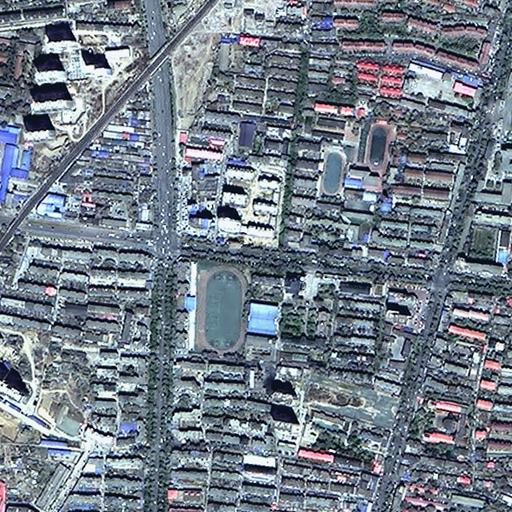school: (192, 260, 284, 355), (300, 106, 398, 188), (313, 146, 348, 250), (381, 323, 420, 372)
